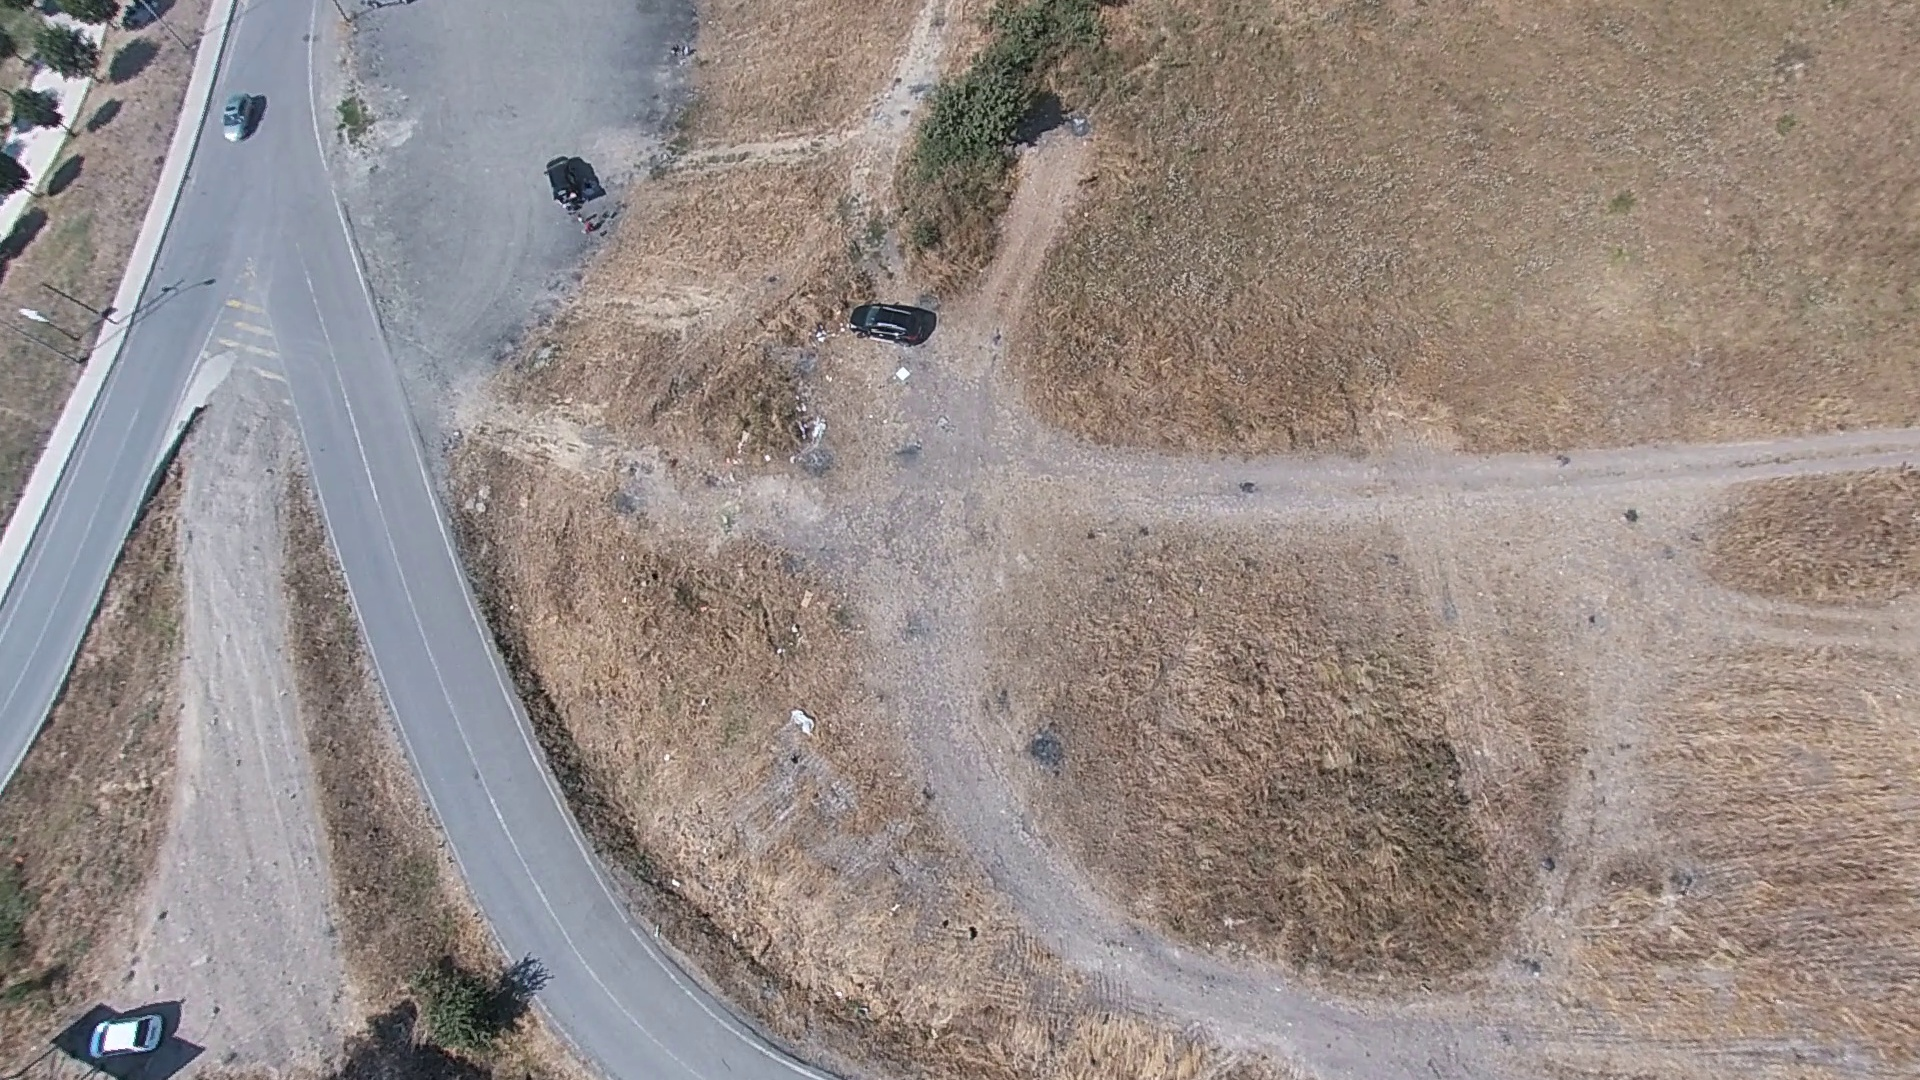arac: (91, 1007, 170, 1058)
